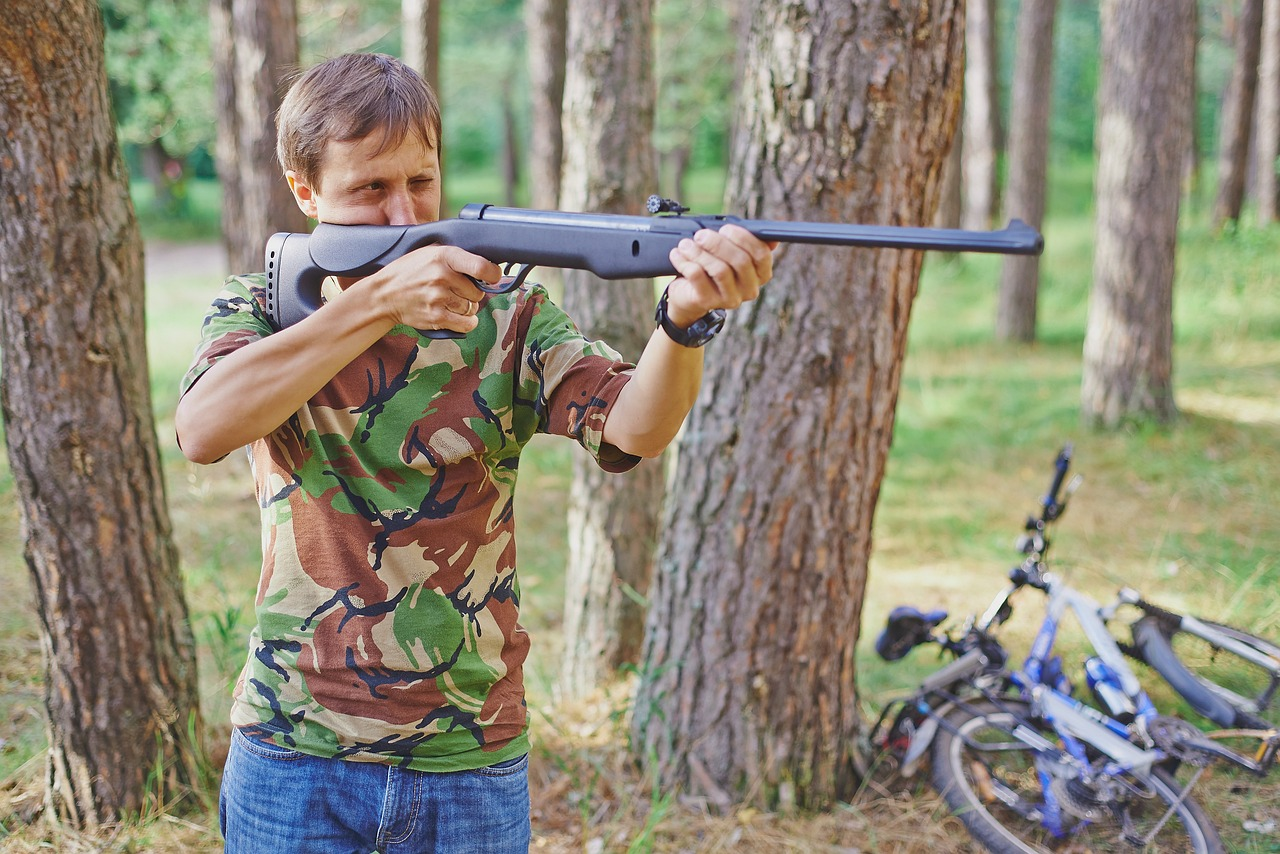gun: (261, 189, 1049, 345)
